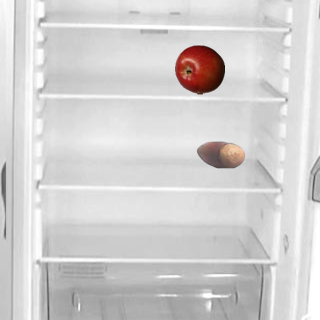Apple Braeburn: (174, 44, 224, 94)
Hazelnut: (195, 129, 245, 179)
